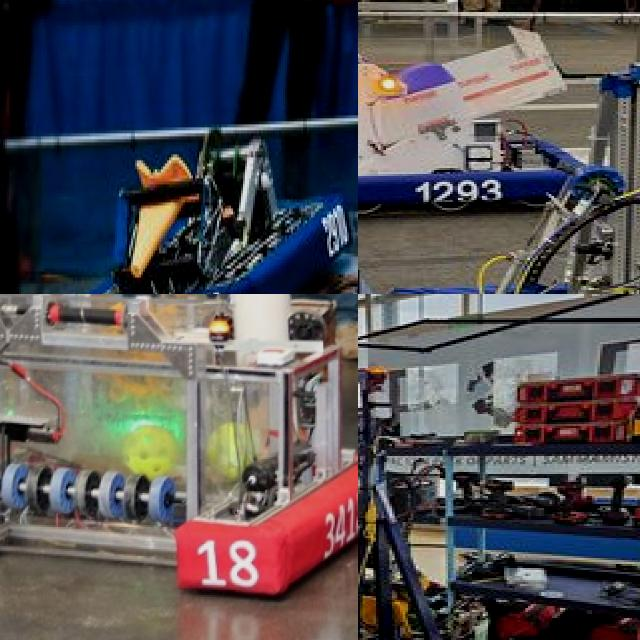FRC-Robots: (0, 294, 358, 640), (383, 71, 640, 294), (358, 29, 608, 227), (72, 119, 348, 294), (358, 358, 502, 640)
